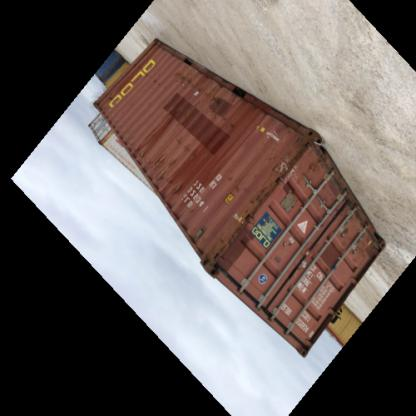Damage: (210, 174, 283, 259), (135, 142, 197, 196), (213, 100, 251, 136), (169, 74, 207, 100), (349, 235, 380, 266), (300, 151, 328, 180)
